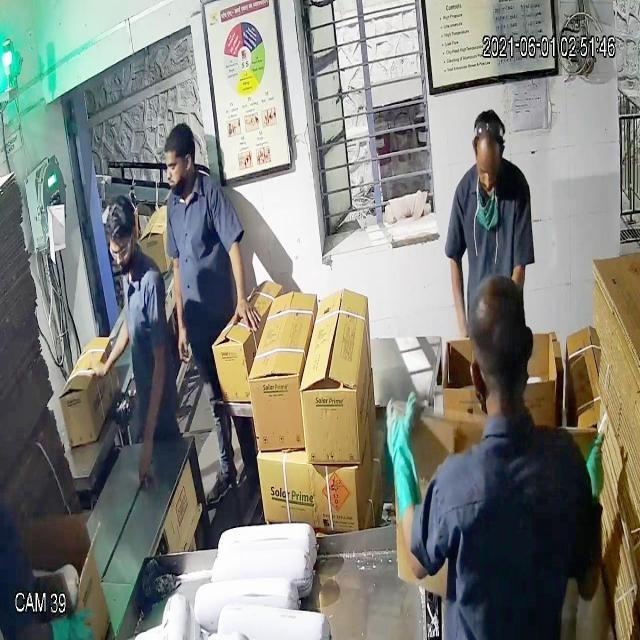hairnet: (474, 162, 499, 200), (164, 170, 188, 198)
